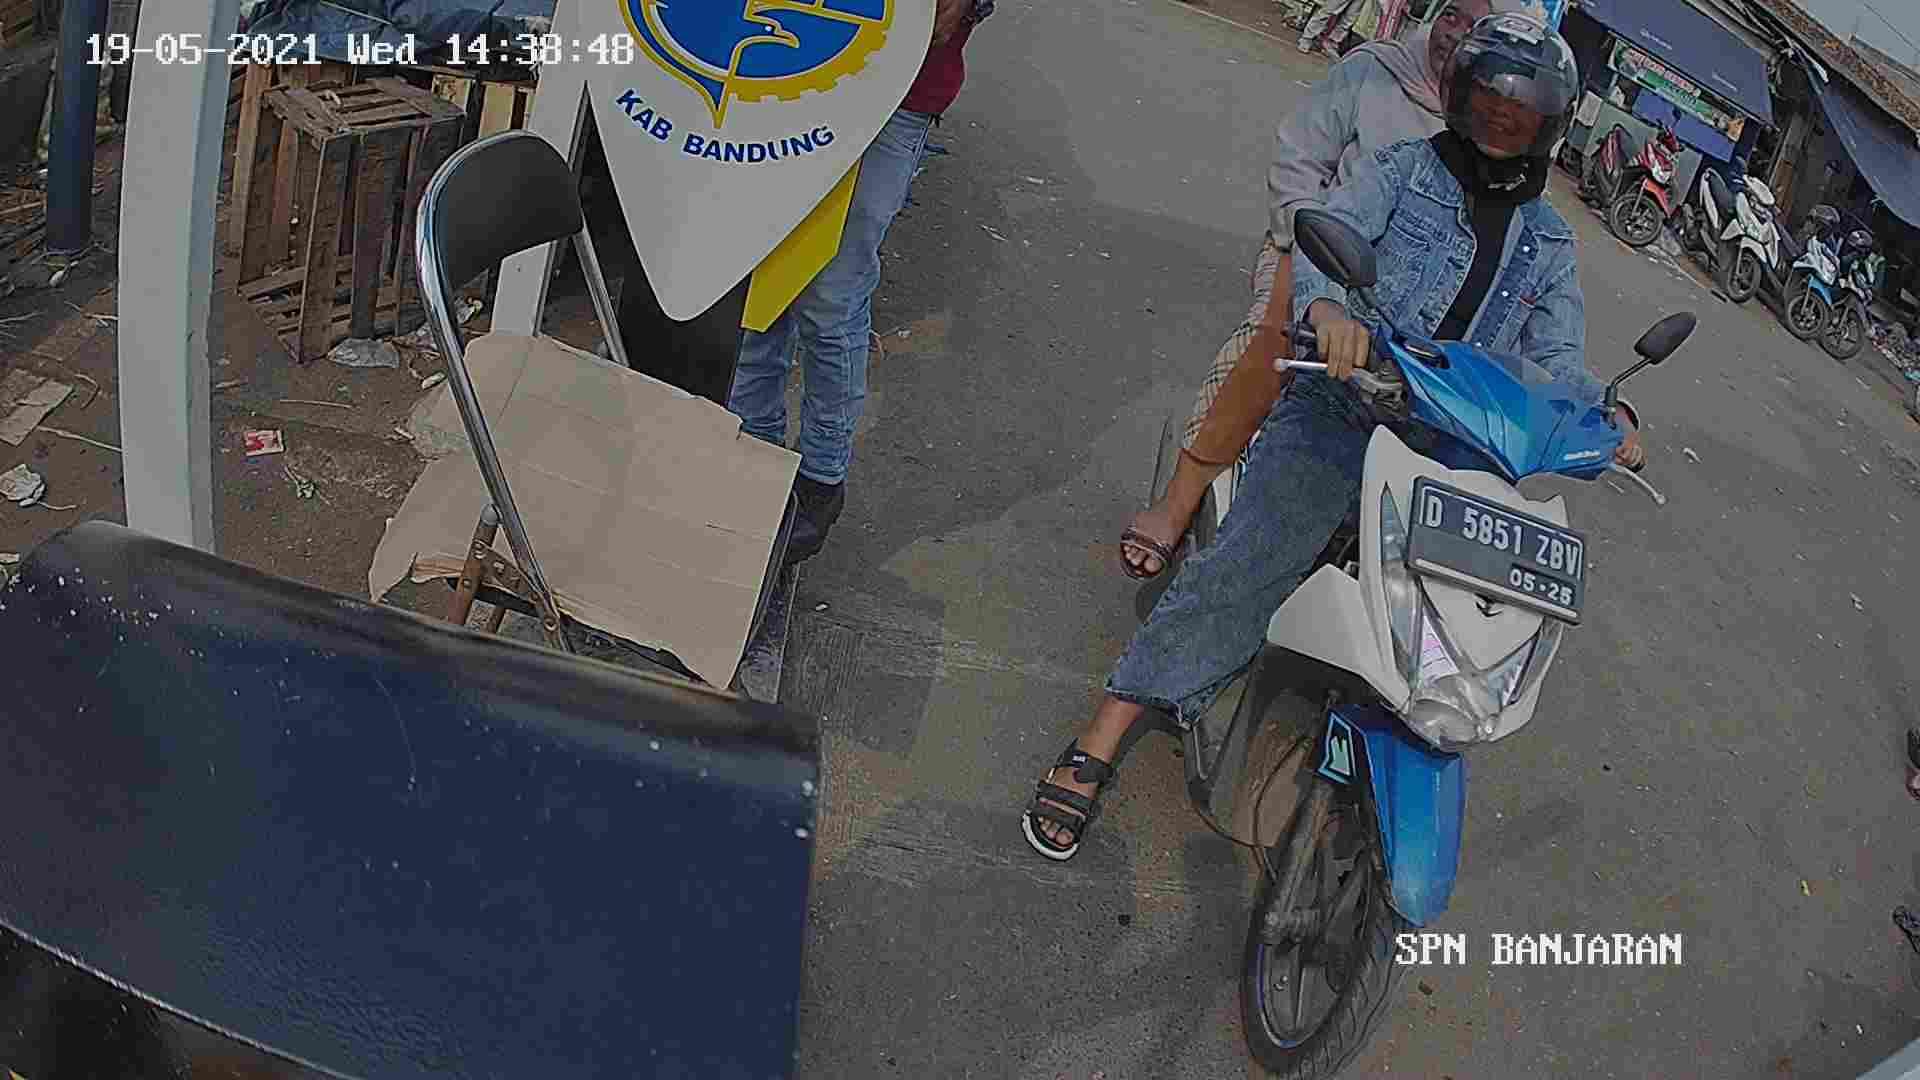motor: (1168, 309, 1644, 1060)
